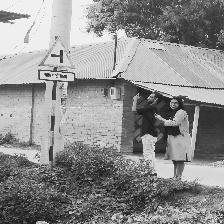Side-road-left: (38, 39, 75, 82)
